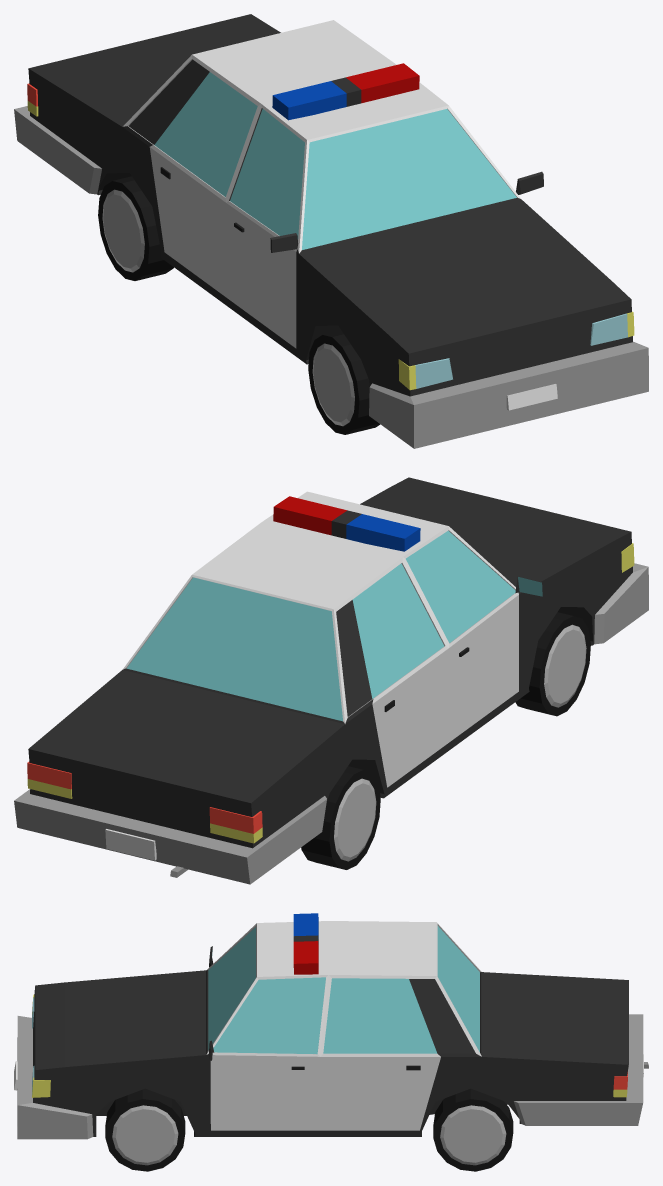
Rendered from lp_car7.fbx.
The picture shows the model from 3 angles, top to bottom: view 1: azimuth 30°, elevation 25°; view 2: azimuth 150°, elevation 25°; view 3: azimuth 270°, elevation 25°; orthographic projection. The views are drawn at different scales.
Visible parts, largest first — view 1: Car, wheel_BR, wheel_FR; view 2: Car, wheel_BR, wheel_FR; view 3: Car, wheel_FL, wheel_BL.
Part boxes in pixels (left/top/right/bottom): Car: left=14, top=14, right=648, bottom=448; wheel_BR: left=98, top=176, right=173, bottom=280; wheel_FR: left=308, top=330, right=380, bottom=434; Car: left=14, top=477, right=648, bottom=884; wheel_BR: left=301, top=766, right=380, bottom=869; wheel_FR: left=515, top=612, right=590, bottom=716; Car: left=14, top=913, right=648, bottom=1139; wheel_FL: left=105, top=1088, right=185, bottom=1171; wheel_BL: left=433, top=1088, right=513, bottom=1171.
Bounding box in the file's own units: 244 × 208 × 633.
